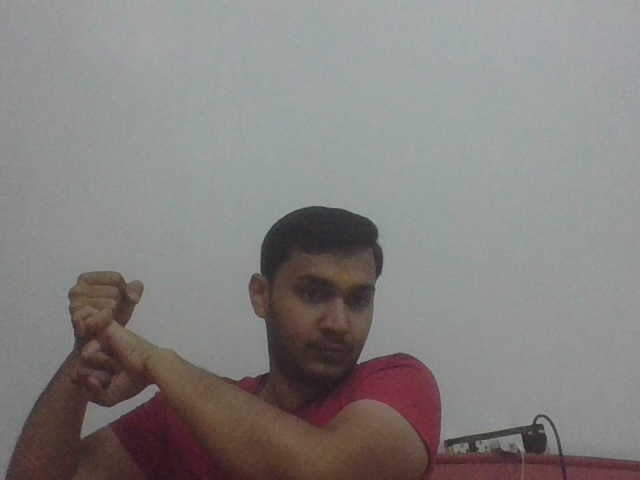S: (63, 264, 151, 409)
